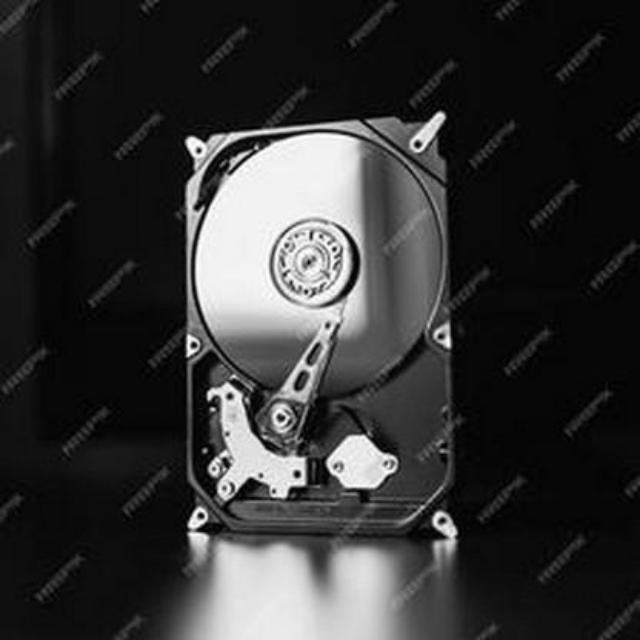DISK: (182, 111, 458, 556)
